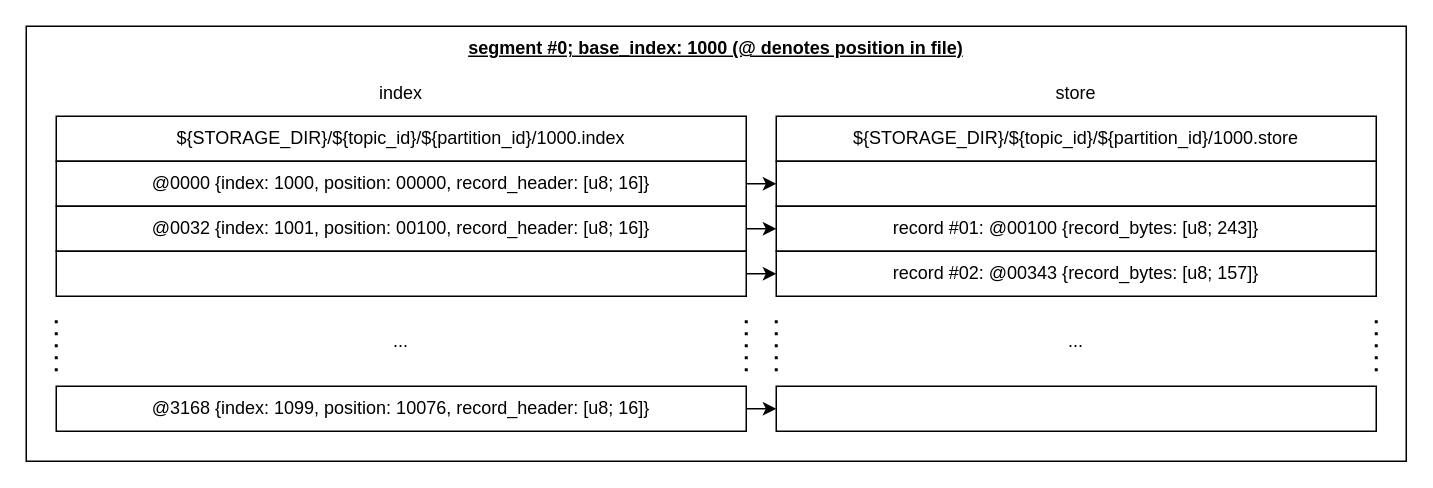
This 1433x488 diagram has some shape labels left out. The shapes that lost their labels are listed below. From the top down, each one's centre as x and y in pixels, then its label:
At point 1075,183: "record #00: @00000 {record_bytes: [u8; 100]}".
At point 400,273: "@0064 {index: 1002, position: 00343, record_header: [u8; 16]}".
At point 1075,408: "record #99: @10076 {record_bytes: [u8; 338]}".
